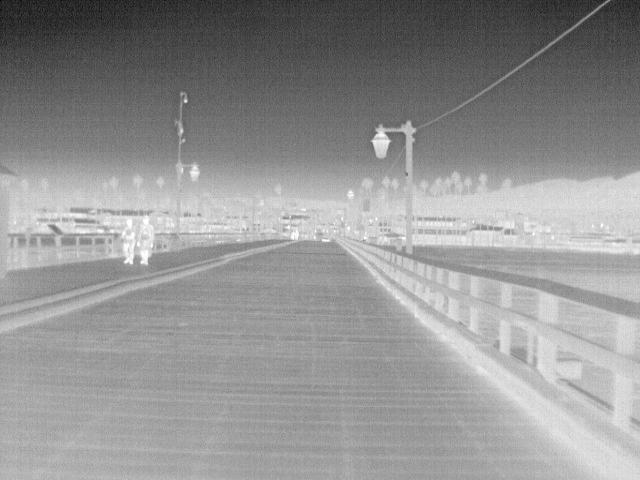person: (133, 215, 156, 266), (120, 214, 139, 265)
